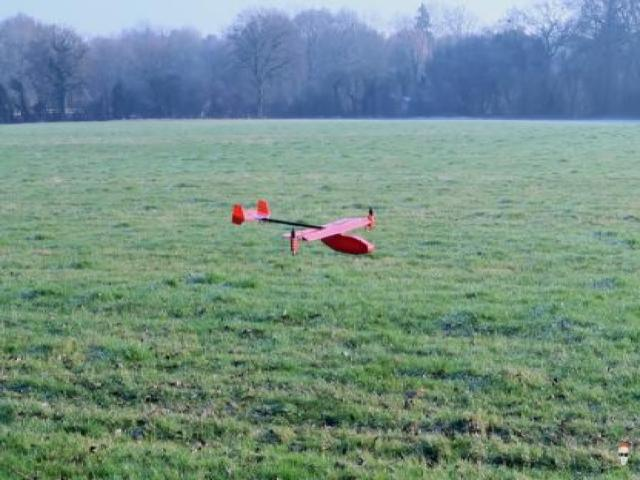uav: (224, 194, 379, 256)
